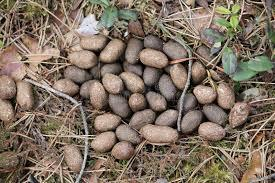Elk: (73, 40, 236, 144)
